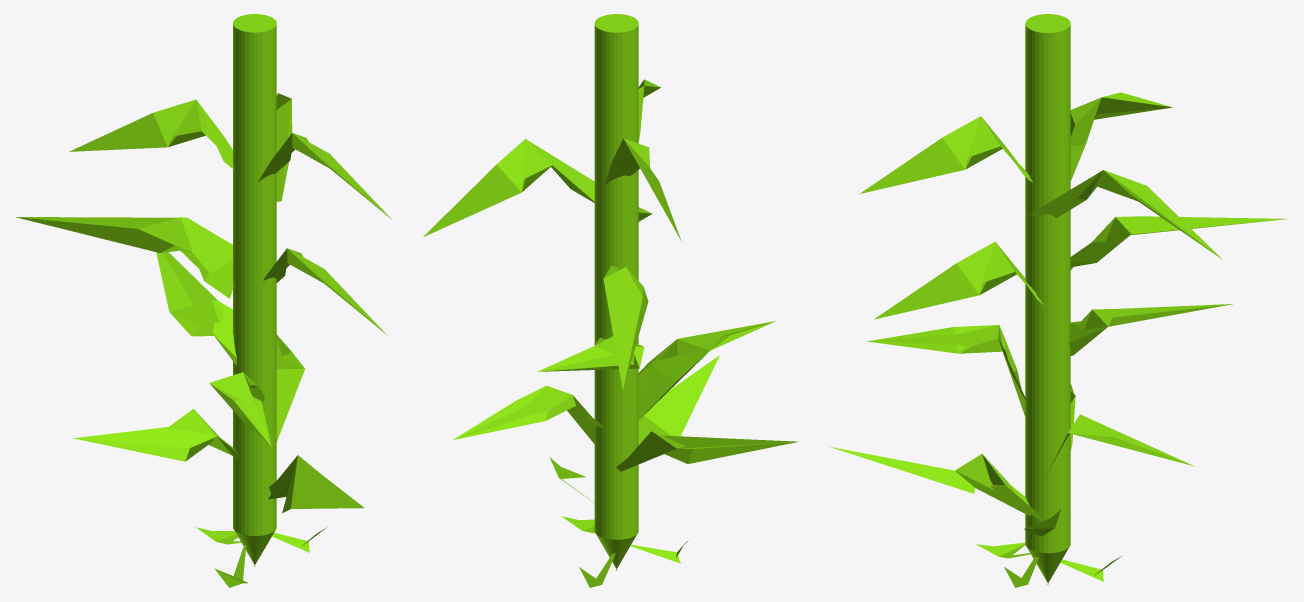
File: corn stalk(background).fbx
3 renders of one model, left to right at view 1: azimuth 30°, elevation 25°; view 2: azimuth 150°, elevation 25°; view 3: azimuth 270°, elevation 25°, orthographic. The views are drawn at different scales.
Visible parts, largest first — view 1: Cylinder, Plane.010, Plane.007, Plane.001, Plane.005, Plane.006, Plane.002, Plane.008, Plane, Plane.003, Plane.004; view 2: Cylinder, Plane.004, Plane.002, Plane, Plane.010, Plane.005, Plane.006, Plane.007, Plane.001; view 3: Cylinder, Plane.008, Plane.003, Plane.006, Plane.002, Plane.004, Plane.010, Plane.007, Plane.001, Plane.
Boxes of the visible parts, x1,y1,x2,y2 form: Cylinder: (233,14,276,566); Plane.010: (15,217,233,298); Plane.007: (69,99,233,169); Plane.001: (156,252,237,364); Plane.005: (73,409,239,462); Plane.006: (268,455,363,513); Plane.002: (209,372,271,446); Plane.008: (258,133,391,219); Plane: (276,334,304,441); Plane.003: (263,248,387,335); Plane.004: (276,93,292,201); Cylinder: (594,14,638,570); Plane.004: (423,139,594,237); Plane.002: (638,321,775,419); Plane: (452,385,603,443); Plane.010: (603,265,648,389); Plane.005: (616,431,798,471); Plane.006: (638,355,719,444); Plane.007: (605,138,681,241); Plane.001: (537,336,644,371); Cylinder: (1025,14,1070,584); Plane.008: (860,116,1032,193); Plane.003: (874,241,1043,319); Plane.006: (829,446,1043,521); Plane.002: (866,325,1025,416); Plane.004: (1030,170,1222,259); Plane.010: (1070,216,1286,269); Plane.007: (1070,92,1172,181); Plane.001: (1069,304,1232,355); Plane: (1047,414,1194,472).
Size of the model in its own units: 612 by 1096 by 818.
